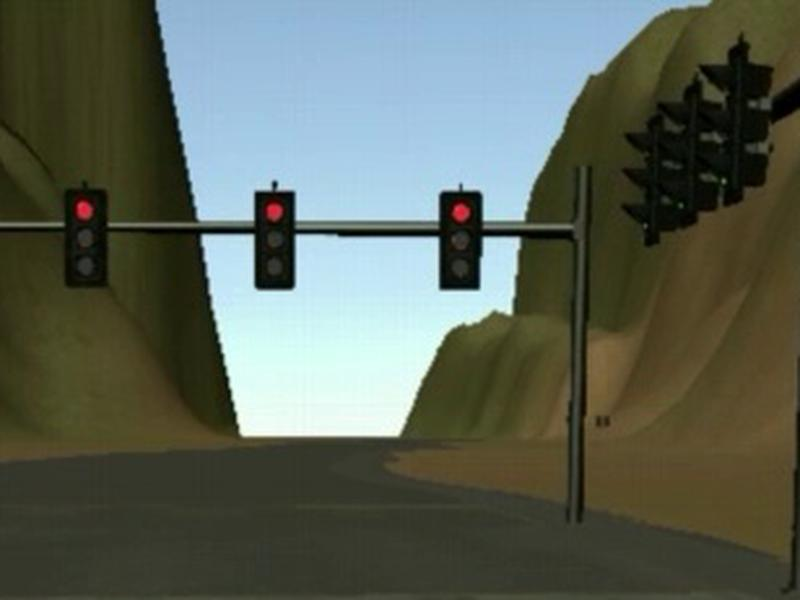Red: (64, 189, 109, 287), (438, 191, 482, 289), (254, 190, 295, 291)
